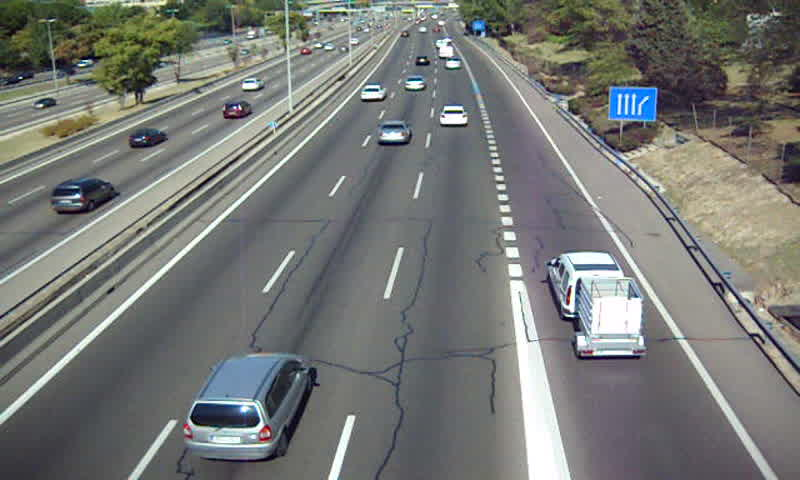car: (183, 354, 310, 460), (377, 121, 411, 147), (439, 105, 469, 127), (359, 84, 386, 103), (402, 75, 427, 92), (445, 57, 463, 70)
van: (548, 253, 628, 319)
